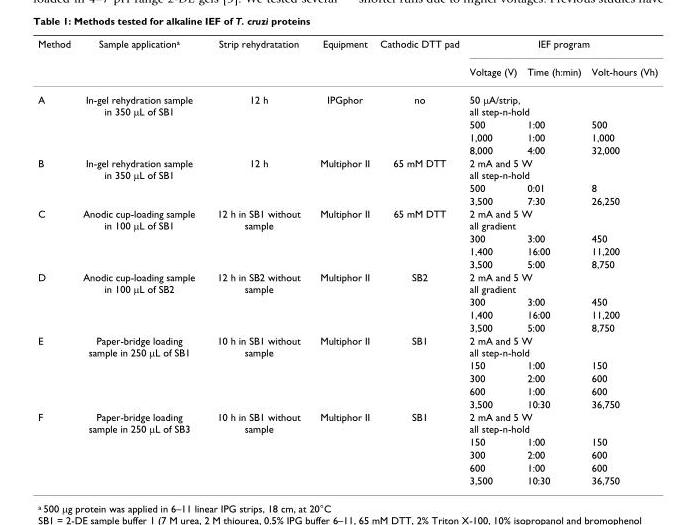table: (37, 37, 657, 485)
table column: (76, 37, 205, 485), (205, 37, 309, 485), (374, 37, 463, 485), (585, 37, 657, 485), (309, 37, 374, 485), (521, 37, 585, 485), (463, 37, 521, 485), (37, 37, 76, 485)
table column header: (37, 37, 657, 84)
table row: (37, 84, 657, 117), (37, 57, 657, 84), (37, 206, 657, 231), (37, 333, 657, 358), (37, 156, 657, 180), (37, 270, 657, 294), (37, 410, 657, 434), (37, 37, 657, 57), (37, 117, 657, 130), (37, 130, 657, 143), (37, 143, 657, 156), (37, 180, 657, 193), (37, 193, 657, 206), (37, 231, 657, 244), (37, 244, 657, 257), (37, 257, 657, 270), (37, 294, 657, 307), (37, 307, 657, 320), (37, 320, 657, 333), (37, 358, 657, 371), (37, 371, 657, 384), (37, 384, 657, 397), (37, 397, 657, 410), (37, 434, 657, 447), (37, 447, 657, 460), (37, 460, 657, 473), (37, 473, 657, 485)
table spanning cell: (463, 84, 657, 117), (76, 37, 205, 84), (205, 37, 309, 84), (463, 206, 657, 231), (463, 333, 657, 358), (463, 156, 657, 180), (463, 270, 657, 294), (463, 410, 657, 434), (374, 37, 463, 84), (463, 37, 657, 57), (309, 37, 374, 84), (37, 333, 76, 410), (37, 410, 76, 485), (37, 84, 76, 156), (37, 206, 76, 270), (37, 270, 76, 333), (37, 156, 76, 206), (37, 37, 76, 84)
